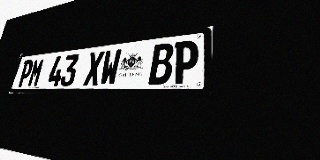3: (59, 54, 80, 86)
4: (47, 55, 66, 87)
B: (148, 42, 174, 85)
M: (27, 58, 45, 87)
P: (172, 39, 199, 84), (17, 59, 35, 87)
W: (99, 49, 122, 86)
X: (83, 51, 105, 86)
